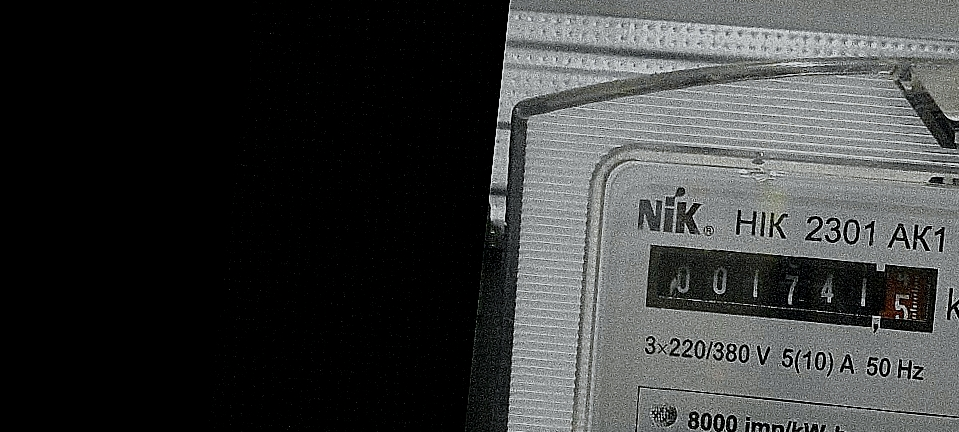0: (673, 261, 695, 296), (709, 262, 731, 297)
1: (745, 263, 765, 301), (854, 274, 873, 310)
4: (817, 269, 840, 306), (895, 269, 913, 288)
5: (890, 289, 913, 321)
7: (780, 270, 801, 307)
screen: (638, 231, 948, 344)
